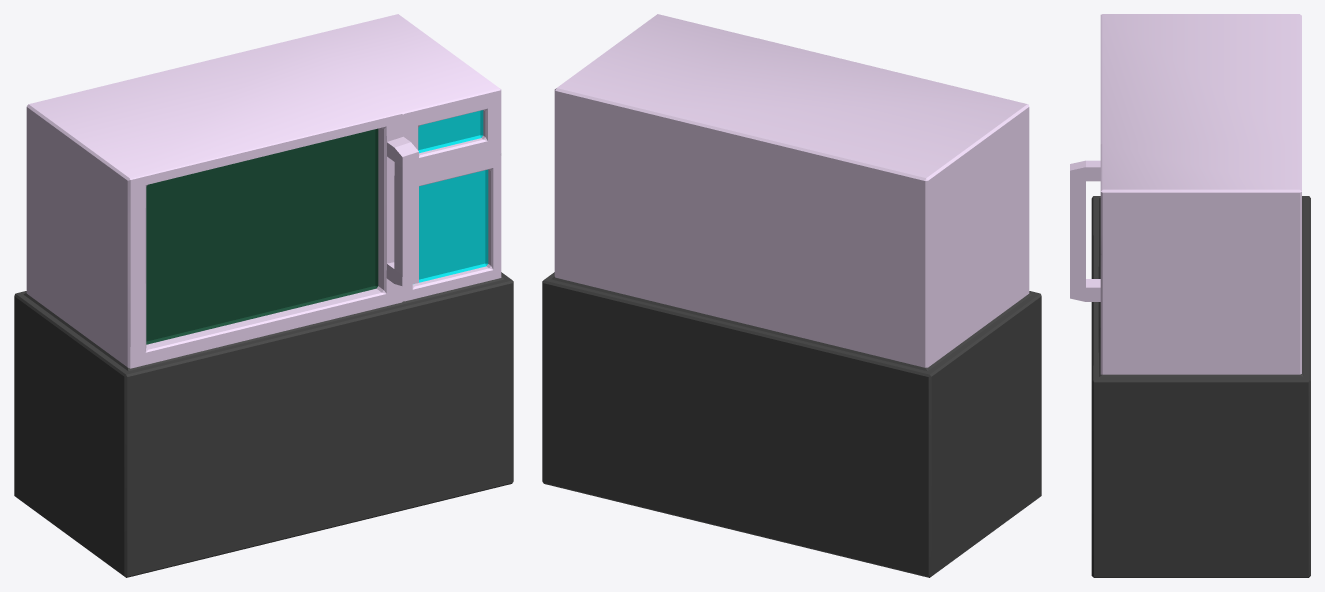
File: Microwave.fbx
3 renders of one model, left to right at view 1: azimuth 30°, elevation 25°; view 2: azimuth 150°, elevation 25°; view 3: azimuth 270°, elevation 25°, orthographic. The views are drawn at different scales.
Visible parts, largest first — view 1: Microwave; view 2: Microwave; view 3: Microwave.
Boxes of the visible parts, x1=… form: Microwave: x1=14, y1=14, x2=513, y2=577; Microwave: x1=542, y1=14, x2=1041, y2=577; Microwave: x1=1070, y1=14, x2=1310, y2=577.
Bounding box in the file's own units: 200 × 194 × 110.
